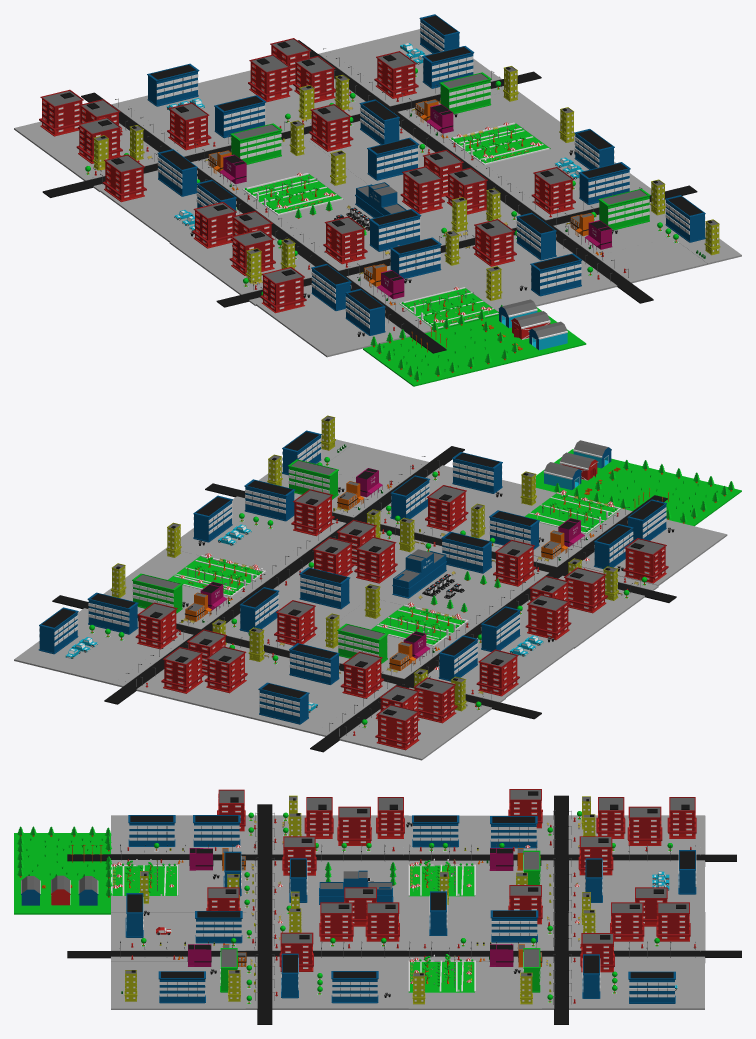
Rendered from City-new.fbx.
3 views of the same model, one above another, from view 1: azimuth 30°, elevation 25°; view 2: azimuth 150°, elevation 25°; view 3: azimuth 270°, elevation 25° (orthographic). The views are drawn at different scales.
Parts seen in each view (by area): view 1: Cube.015, Cube.220, Cube.457, Cube.456, Cube.019, Cube.307, Cube.308, Cube.219, Cube.076, Cube.521, Cube.477, Cube.510 (+47 smaller); view 2: Cube.308, Cube.456, Cube.219, Cube.019, Cube.015, Cube.457, Cube.220, Cube.307, Cube.076, Cube.051, Cube.510, Cube.520 (+44 smaller); view 3: Cube.308, Cube.219, Cube.456, Cube.307, Cube.019, Cube.220, Cube.015, Cube.457, Cube.076, Cube.513, Cube.519, Cube.518 (+51 smaller).
Boxes of the visible parts, x1,y1,x2,y2 form: Cube.015: (256, 253, 527, 357); Cube.220: (465, 204, 741, 306); Cube.457: (100, 140, 368, 242); Cube.456: (14, 77, 306, 197); Cube.019: (169, 196, 461, 307); Cube.307: (308, 91, 575, 187); Cube.308: (221, 29, 541, 139); Cube.219: (392, 143, 697, 253); Cube.076: (363, 307, 586, 386); Cube.521: (530, 253, 582, 296); Cube.477: (147, 63, 199, 106); Cube.510: (367, 137, 419, 180); Cube.308: (14, 595, 293, 710); Cube.456: (219, 657, 541, 760); Cube.219: (180, 483, 446, 595); Cube.019: (380, 545, 676, 648); Cube.015: (457, 486, 727, 585); Cube.457: (306, 600, 573, 697); Cube.220: (258, 435, 521, 533); Cube.307: (103, 547, 365, 644); Cube.076: (536, 449, 741, 526); Cube.051: (392, 549, 446, 598); Cube.510: (299, 567, 350, 609); Cube.520: (244, 479, 295, 521); Cube.308: (513, 911, 741, 1024); Cube.219: (211, 911, 408, 1024); Cube.456: (513, 795, 736, 911); Cube.307: (363, 911, 542, 1009); Cube.019: (213, 804, 408, 911); Cube.220: (67, 912, 246, 1009); Cube.015: (67, 815, 246, 912); Cube.457: (363, 815, 541, 911); Cube.076: (14, 833, 110, 914); Cube.513: (158, 971, 205, 1003); Cube.519: (331, 971, 378, 1003); Cube.518: (490, 910, 538, 942).
Bounding box in the file's own units: 70458 × 4408 × 94959.
